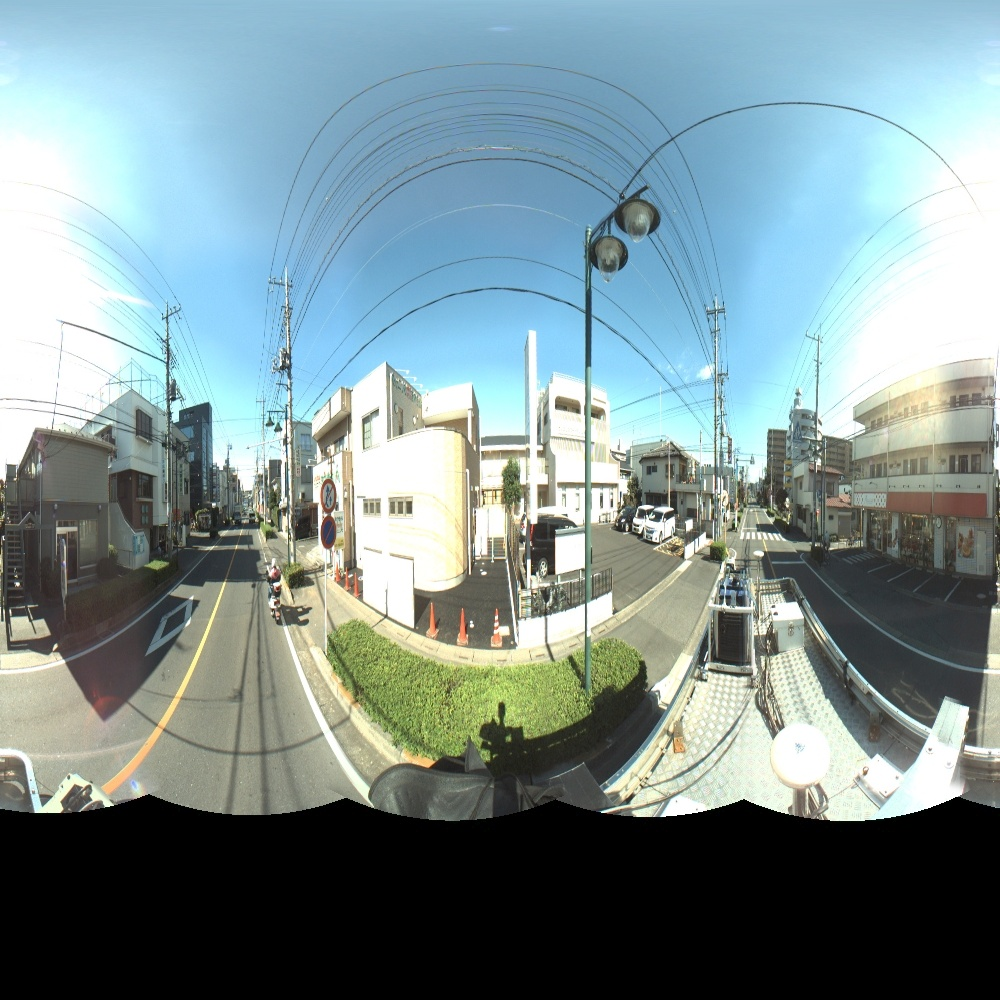car: (530, 520, 590, 575), (522, 513, 566, 542), (643, 507, 676, 542), (632, 505, 652, 535), (614, 505, 633, 531)
crosswalk: (740, 532, 786, 541)
traffic_sign: (320, 514, 338, 550), (320, 479, 337, 516)
warning_line: (144, 596, 194, 654)
